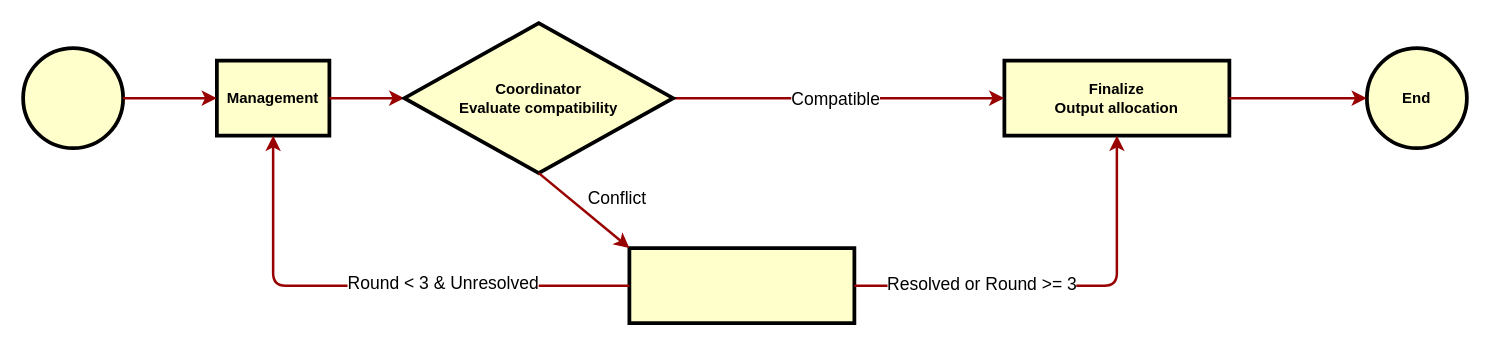
This 1490x346 diagram has some shape labels left out. The centre of each missing label's shape, as x and y in pixels:
"Negotiation PA or PC resolution" goes at (741,285).
"START" goes at (72,97).
